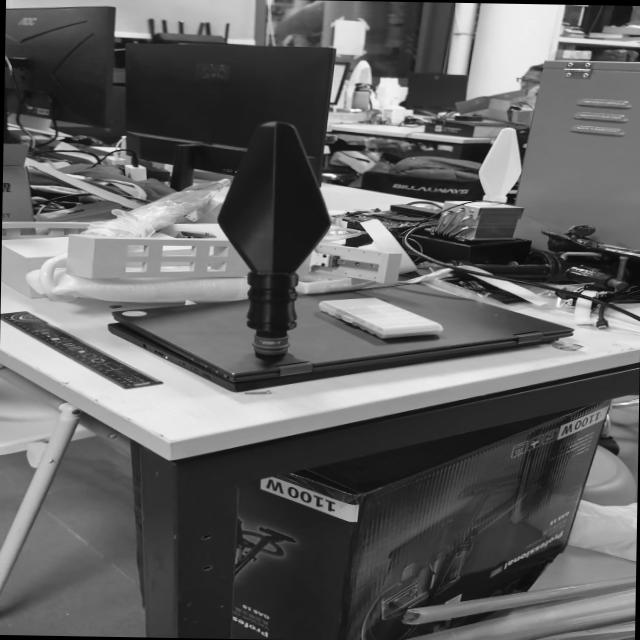base: (248, 335, 288, 355)
